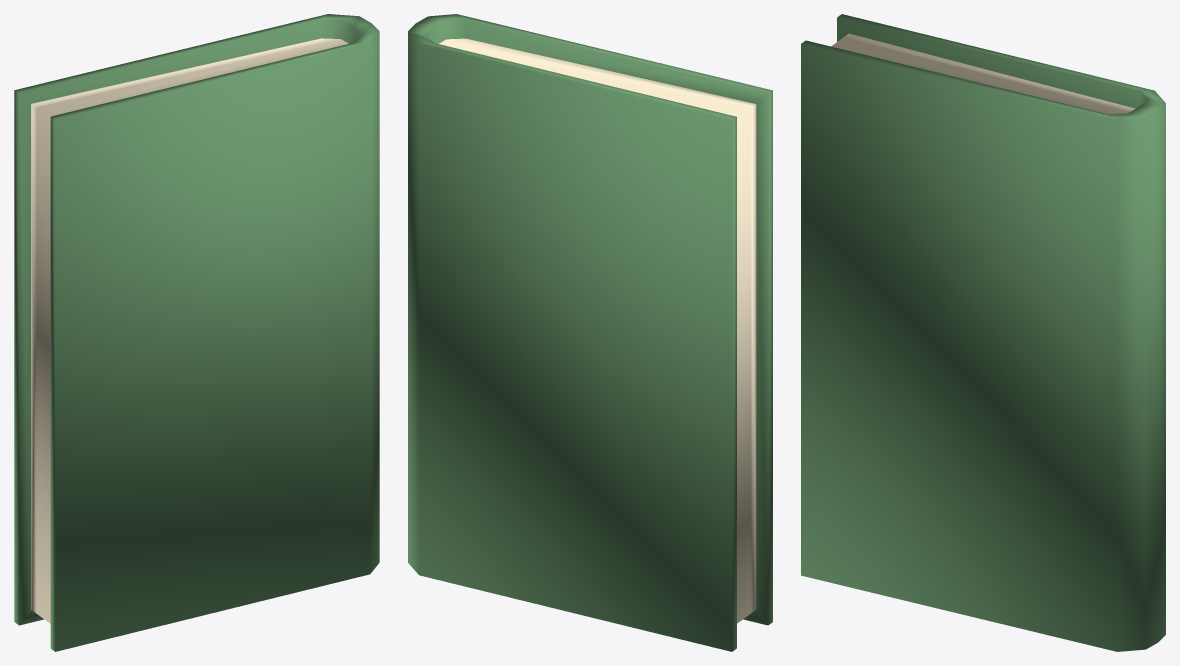
File: SM_Book02.fbx
The picture shows the model from 3 angles, left to right: view 1: azimuth 30°, elevation 25°; view 2: azimuth 150°, elevation 25°; view 3: azimuth 330°, elevation 25°; orthographic projection.
Visible parts, largest first — view 1: Book02; view 2: Book02; view 3: Book02.
Boxes of the visible parts, <box> form: Book02: <box>14,14,379,651</box>; Book02: <box>408,14,772,651</box>; Book02: <box>801,14,1165,651</box>.
Bounding box in the file's own units: 33.12 × 50 × 6.96.
